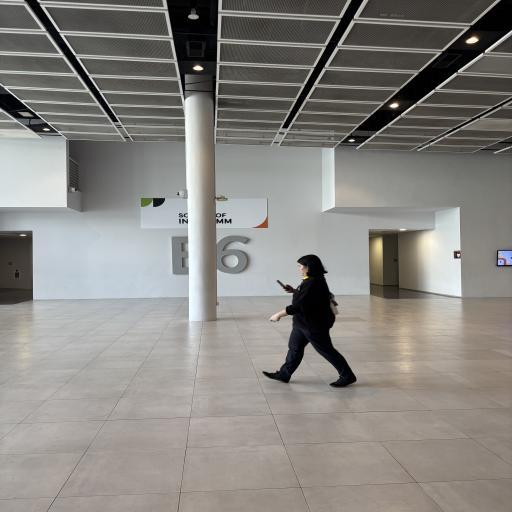person_left: (266, 249, 352, 393)
